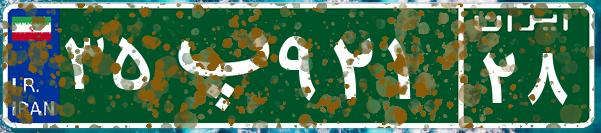1: (385, 28, 445, 110)
2: (330, 28, 385, 110), (475, 38, 525, 113)
3: (57, 26, 110, 107)
5: (110, 28, 158, 105)
8: (525, 38, 570, 115)
9: (273, 28, 330, 110)
پ: (158, 15, 273, 115)
